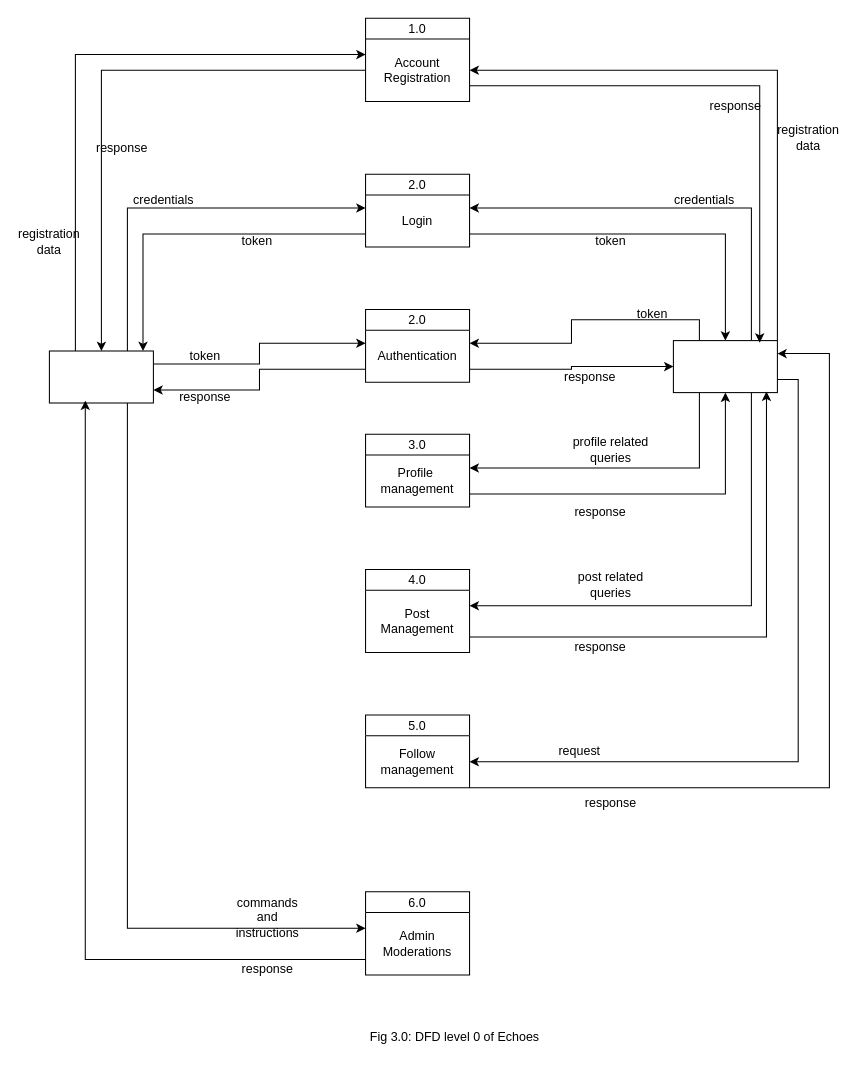
The diagram is 857 pixels wide and 1087 high, and some of its shapes have lost their labels. Each missing label, with the box of its shape:
Admin: (48, 350, 153, 403)
User: (672, 340, 777, 393)
